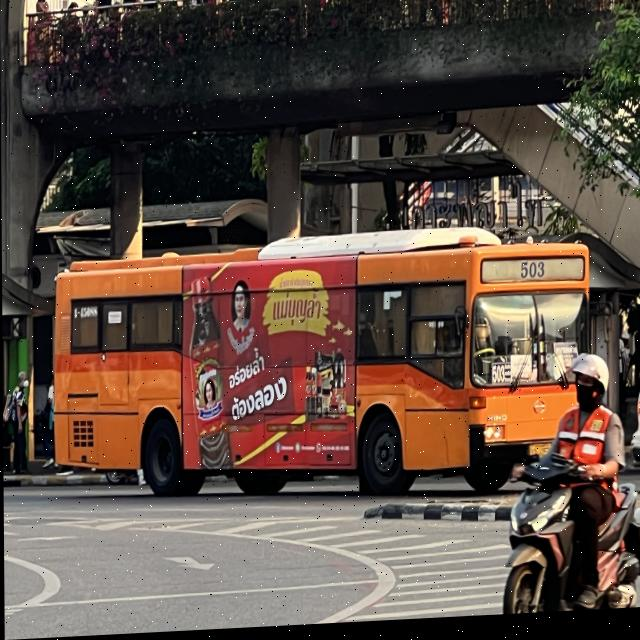BMTA-bus: (50, 233, 591, 500)
Bus Line Number: (514, 261, 551, 289)
Destination Sign: (551, 346, 578, 374)
